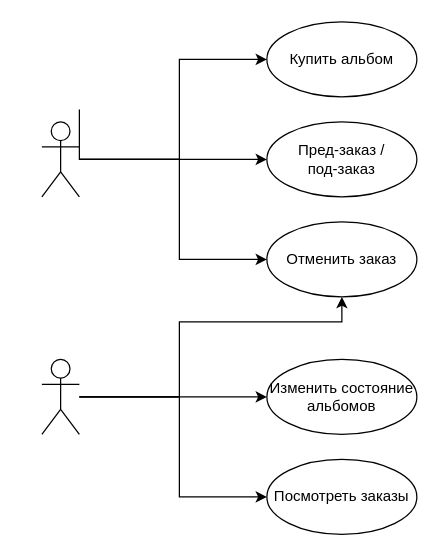
Some shapes in this 439 by 556 pixel diagram are drawn without their labels. The box of each missing label's shape, as (x1, y1, x2, y2) in pixels:
покупатель: (41, 121, 79, 197)
продавец: (41, 358, 79, 434)
